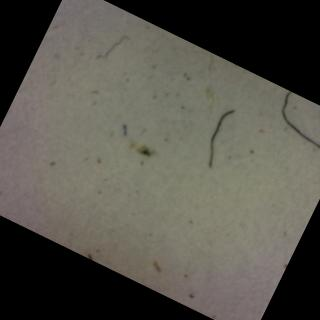Microplastic: (180, 96, 251, 188), (254, 85, 320, 167), (90, 21, 135, 75)
